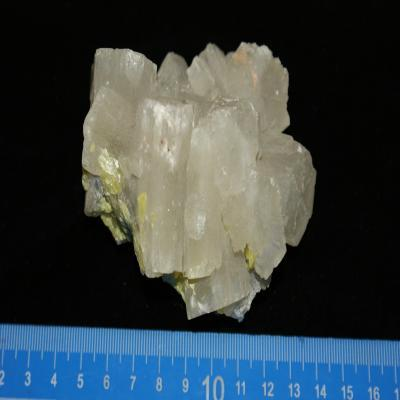mineralogy: (80, 43, 317, 324)
